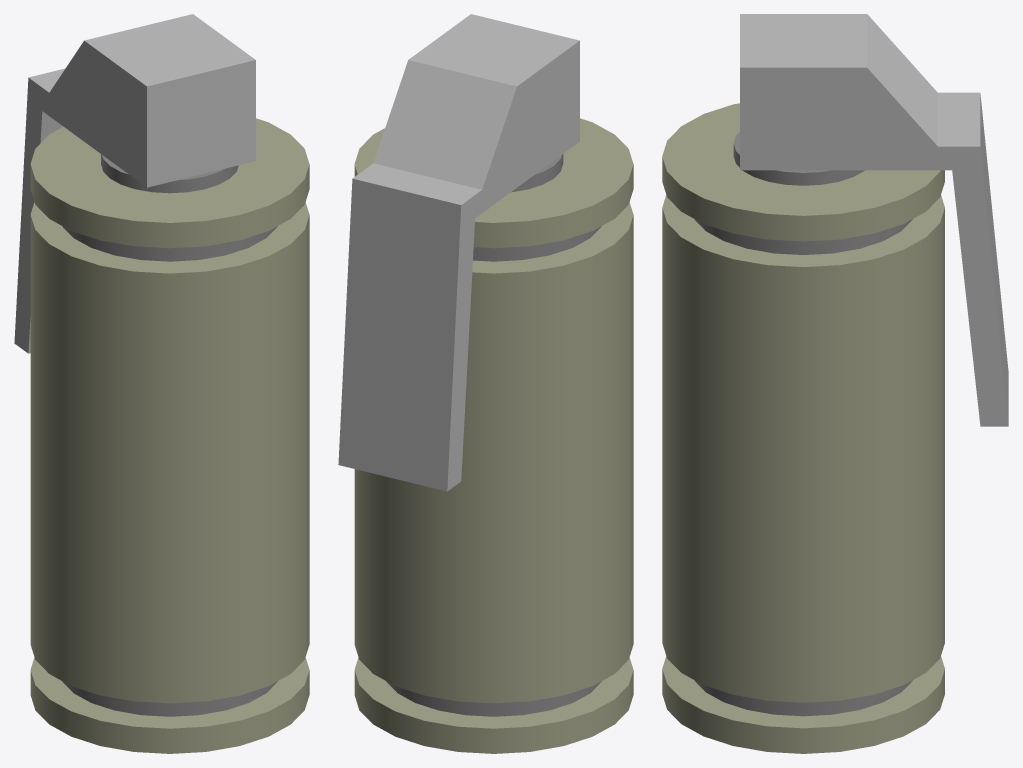
The model's file is grenadeSmoke.glb.
The picture shows the model from 3 angles, left to right: view 1: azimuth 30°, elevation 25°; view 2: azimuth 150°, elevation 25°; view 3: azimuth 270°, elevation 25°; orthographic projection.
Visible parts, largest first — view 1: Mesh1 Group2 Group1 Model, Mesh2 Group3 Group1 Model; view 2: Mesh1 Group2 Group1 Model, Mesh2 Group3 Group1 Model; view 3: Mesh1 Group2 Group1 Model, Mesh2 Group3 Group1 Model.
Part boxes in pixels (x1,y1,x2,y2): Mesh1 Group2 Group1 Model: (30,118,309,753); Mesh2 Group3 Group1 Model: (14,14,255,353); Mesh1 Group2 Group1 Model: (354,118,633,753); Mesh2 Group3 Group1 Model: (338,14,579,491); Mesh1 Group2 Group1 Model: (662,103,944,753); Mesh2 Group3 Group1 Model: (740,14,1008,426).
Size of the model in its own units: 0.012 by 0.0306 by 0.0147.
